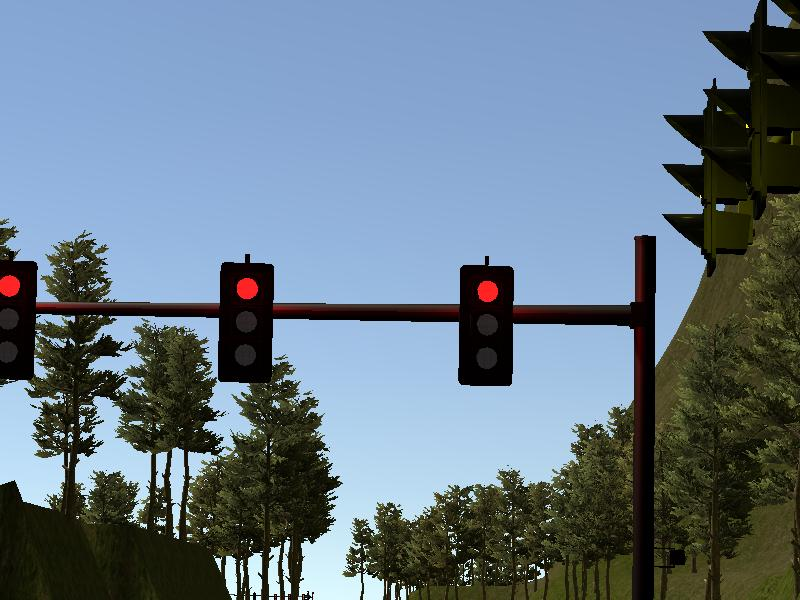Red: (460, 265, 512, 385), (221, 263, 271, 382), (1, 262, 38, 379)
